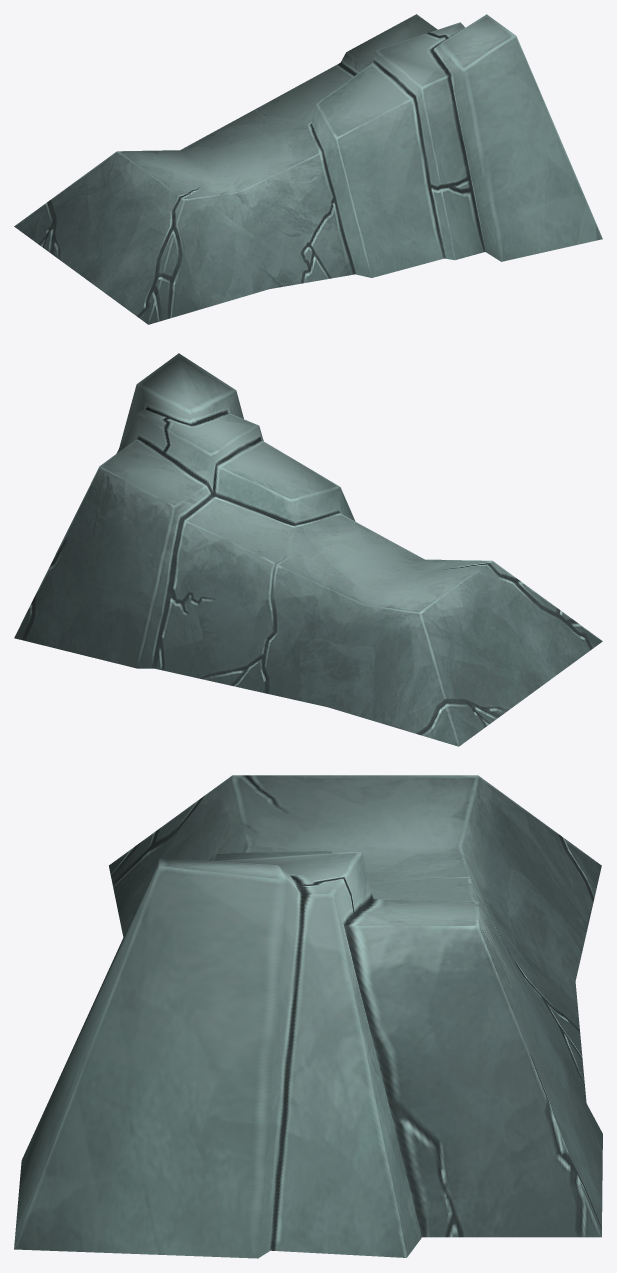
Rendered from Rock 8.fbx.
3 views of the same model, one above another, from view 1: azimuth 30°, elevation 25°; view 2: azimuth 150°, elevation 25°; view 3: azimuth 270°, elevation 25° (orthographic). The views are drawn at different scales.
Parts seen in each view (by area): view 1: pPlane8; view 2: pPlane8; view 3: pPlane8.
Part boxes in pixels (x1=…): pPlane8: x1=14, y1=14, x2=602, y2=324; pPlane8: x1=14, y1=353, x2=602, y2=746; pPlane8: x1=14, y1=775, x2=602, y2=1258.
Bounding box in the file's own units: 7.42 × 3 × 4.7.
